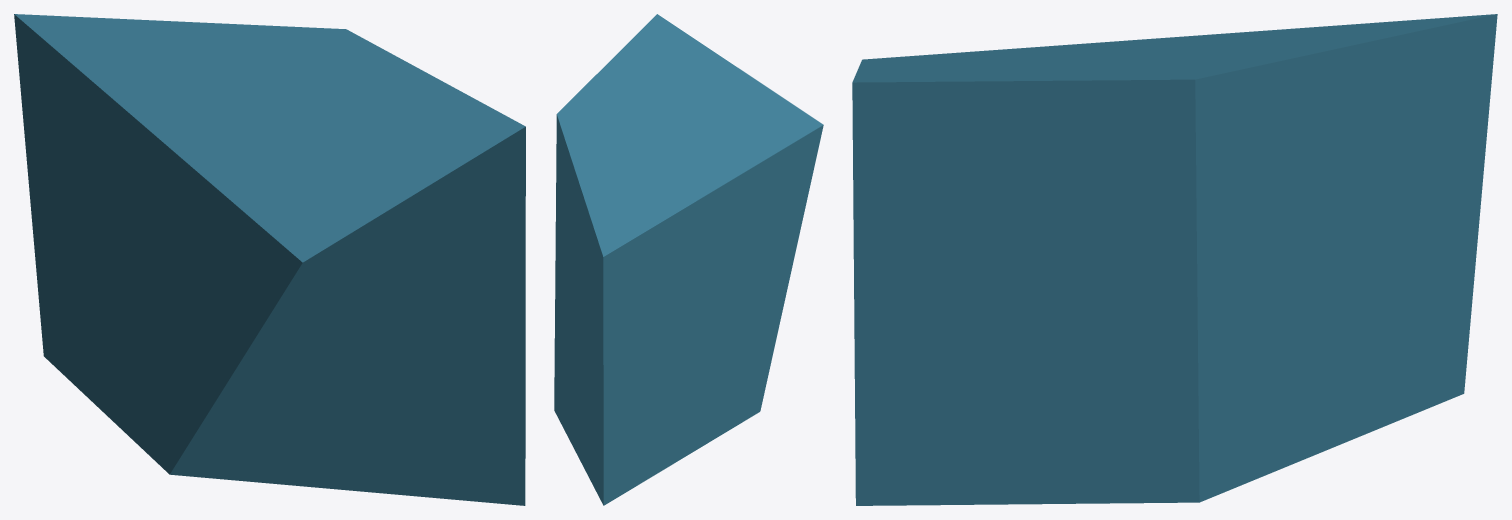
3 views of the same model, side by side, from view 1: azimuth 30°, elevation 25°; view 2: azimuth 150°, elevation 25°; view 3: azimuth 270°, elevation 25° (orthographic). The views are drawn at different scales.
Parts seen in each view (by area): view 1: Cube.016; view 2: Cube.016; view 3: Cube.016.
Part boxes in pixels (<box>): Cube.016: <box>14,14,525,505</box>; Cube.016: <box>554,14,823,505</box>; Cube.016: <box>852,14,1497,505</box>.
Size of the model in its own units: 0.5648 by 0.857 by 1.16.
